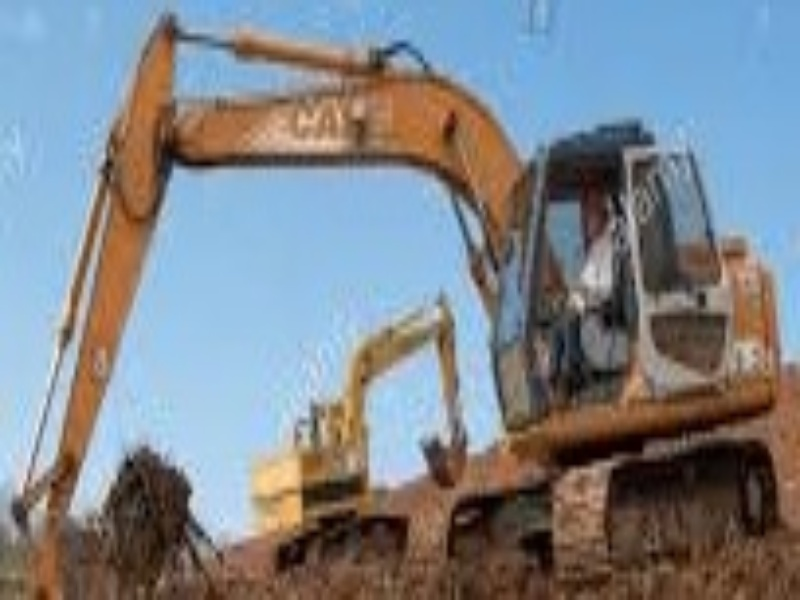wajueji: (35, 11, 785, 583)
